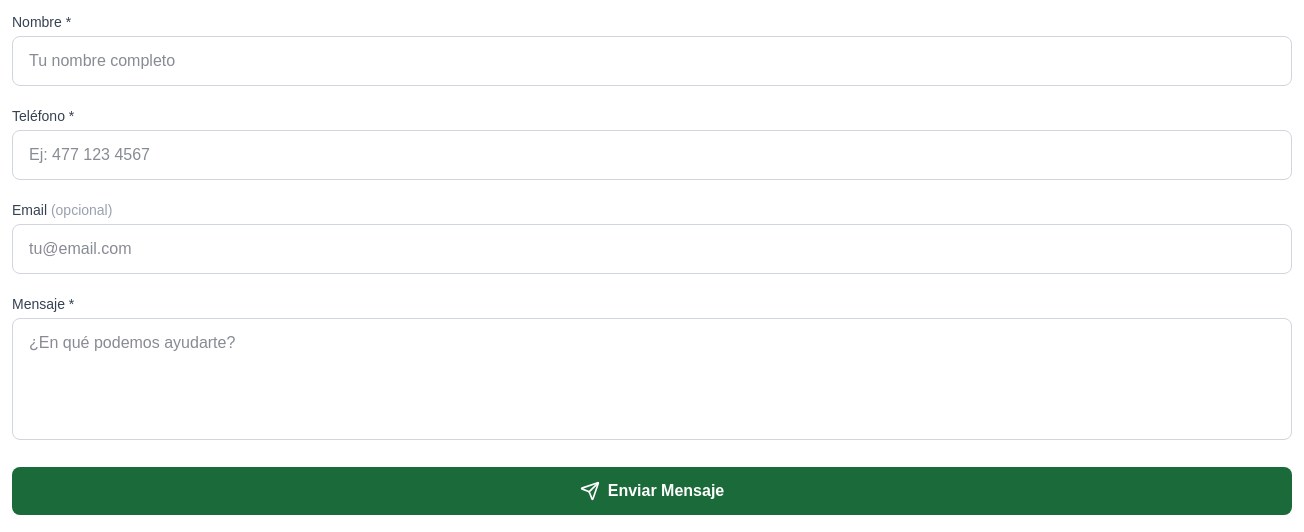
Scenario: ContactForm › shows success state after successful submission
Step 1. Type "Juan" into the field labelled "Nombre *" → (652, 61), box 12,36 -> 1292,86
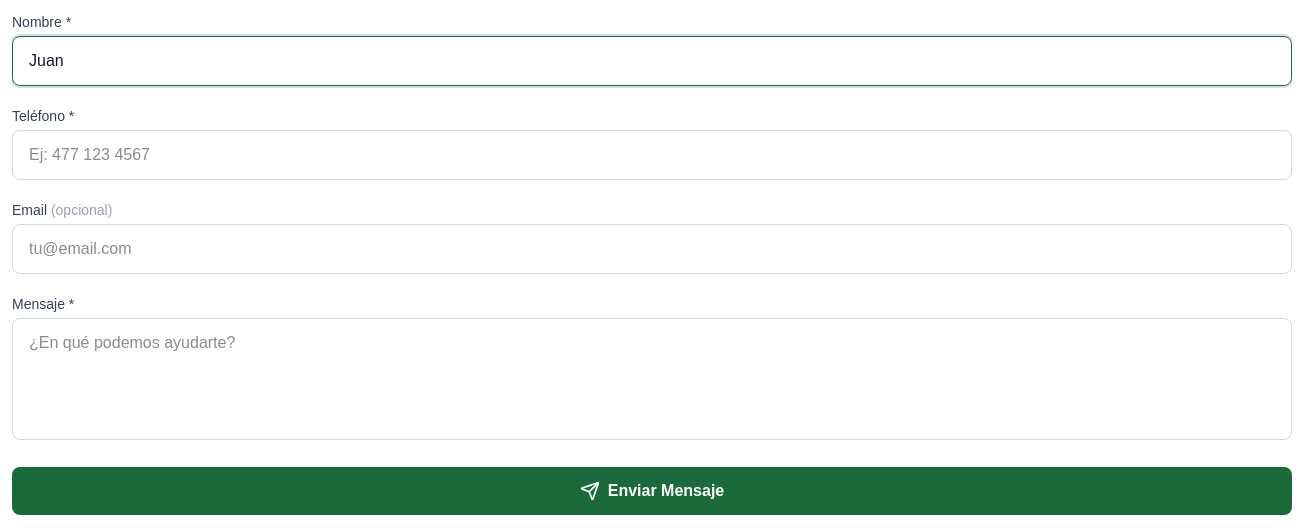
Step 2. Type "4771234567" into the field labelled "Teléfono *" → (652, 155), box 12,130 -> 1292,180
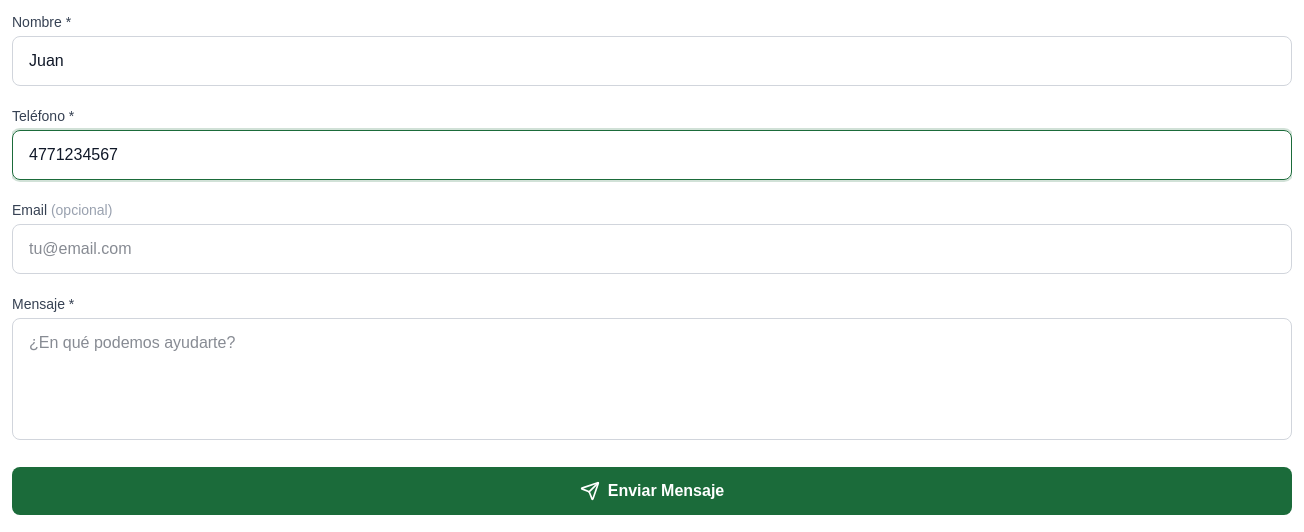
Step 3. Type "Información del centro por favor" into the text box labelled "Mensaje *" → (652, 379), box 12,318 -> 1292,440
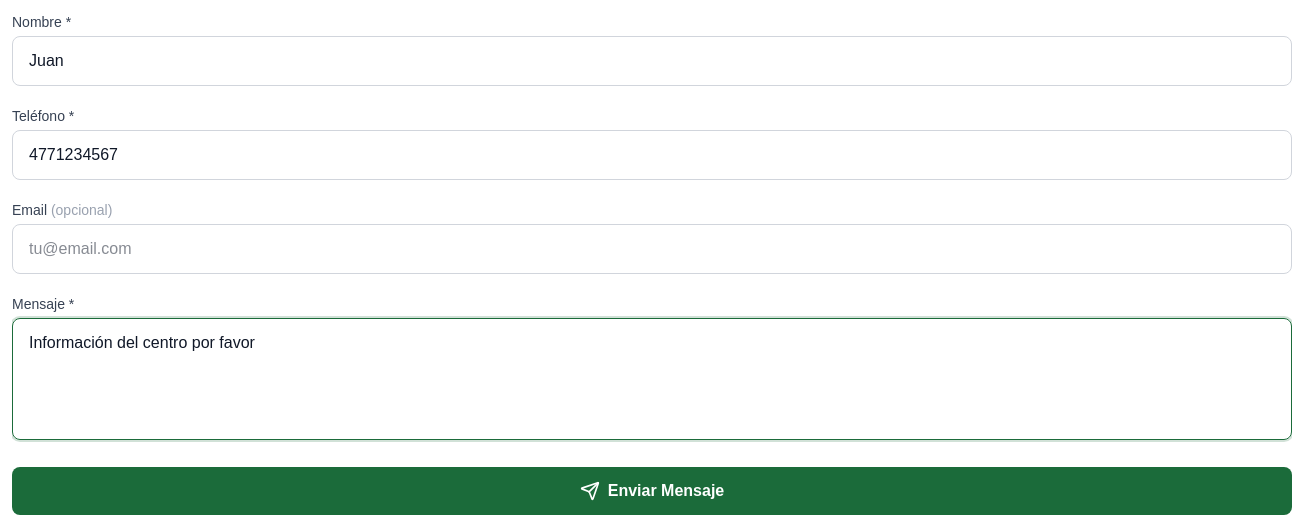
Step 4. Click the button "Enviar Mensaje" → (652, 491), box 12,467 -> 1292,515
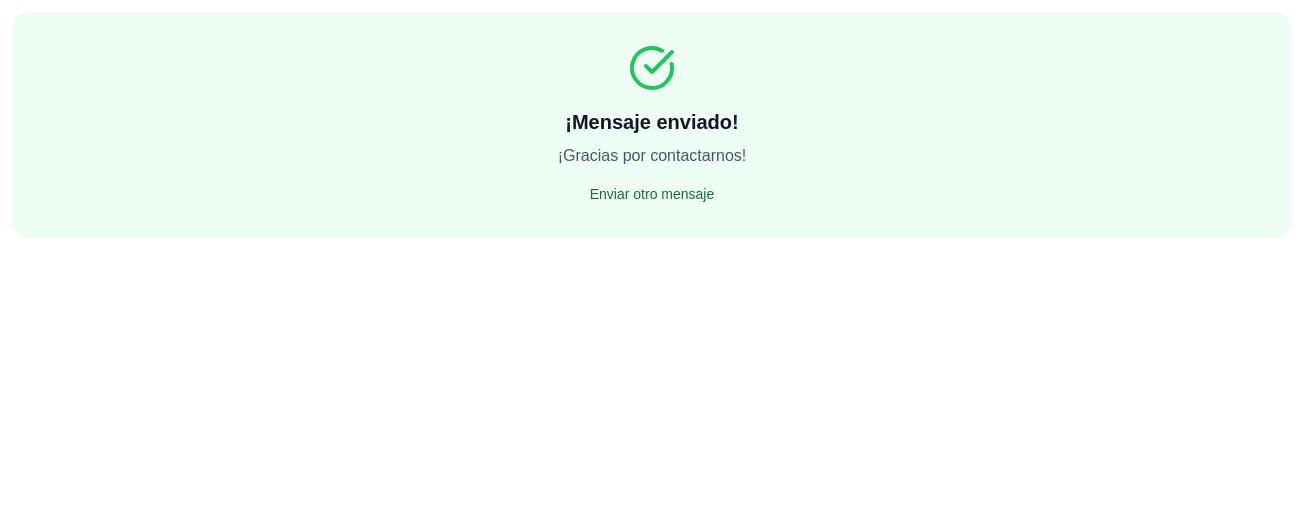
Check: the heading "¡Mensaje enviado!" is shown, box 565,111 -> 739,133
Check: the text "¡Gracias por contactarnos!" is shown, box 558,147 -> 746,164
